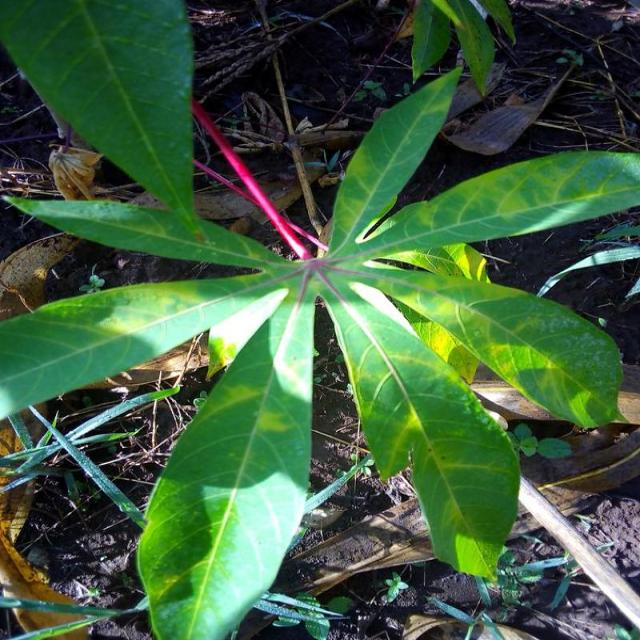cassava leaf: (1, 55, 638, 637), (136, 270, 318, 638), (2, 0, 202, 236)
